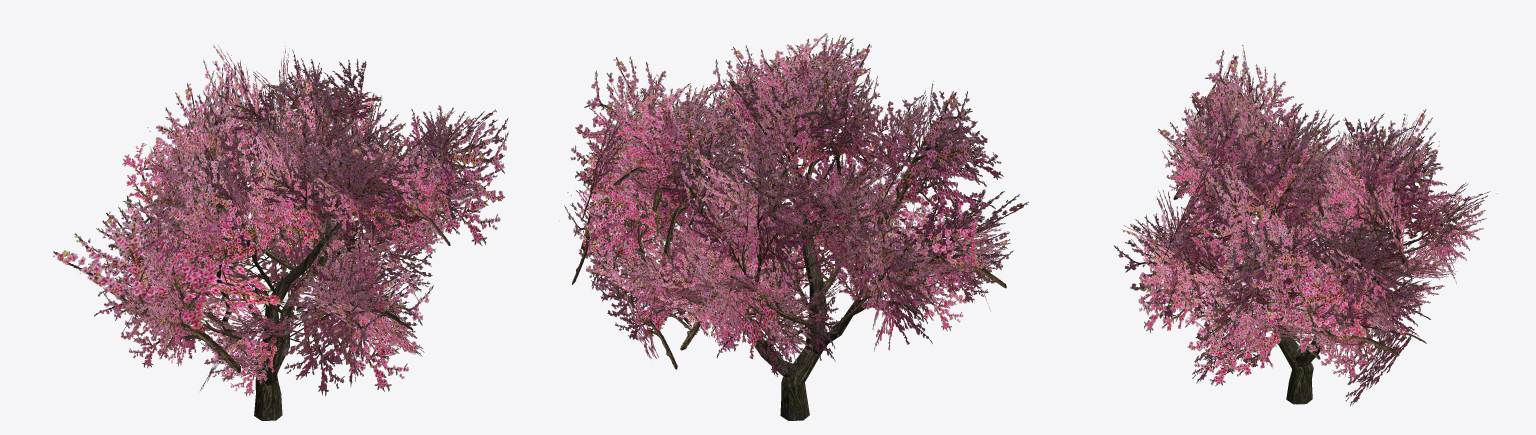
File: tree_c.FBX
3 renders of one model, left to right at view 1: azimuth 30°, elevation 25°; view 2: azimuth 150°, elevation 25°; view 3: azimuth 270°, elevation 25°, orthographic. The views are drawn at different scales.
Visible parts, largest first — view 1: tree_c; view 2: tree_c; view 3: tree_c.
Boxes of the visible parts, x1,y1,x2,y2 form: tree_c: (52, 44, 508, 420); tree_c: (564, 33, 1028, 420); tree_c: (1114, 45, 1497, 405).
Bounding box in the file's own units: 13.19 × 9.67 × 11.62.
2 materials, 2 textured.
